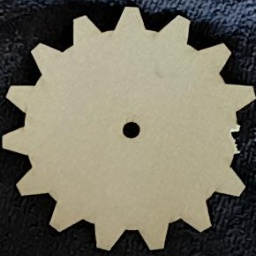Missing: (224, 119, 255, 156)
